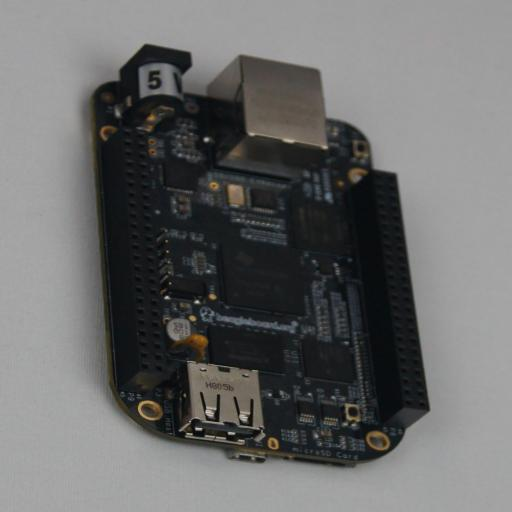Beaglebone Black: (84, 44, 430, 468)
